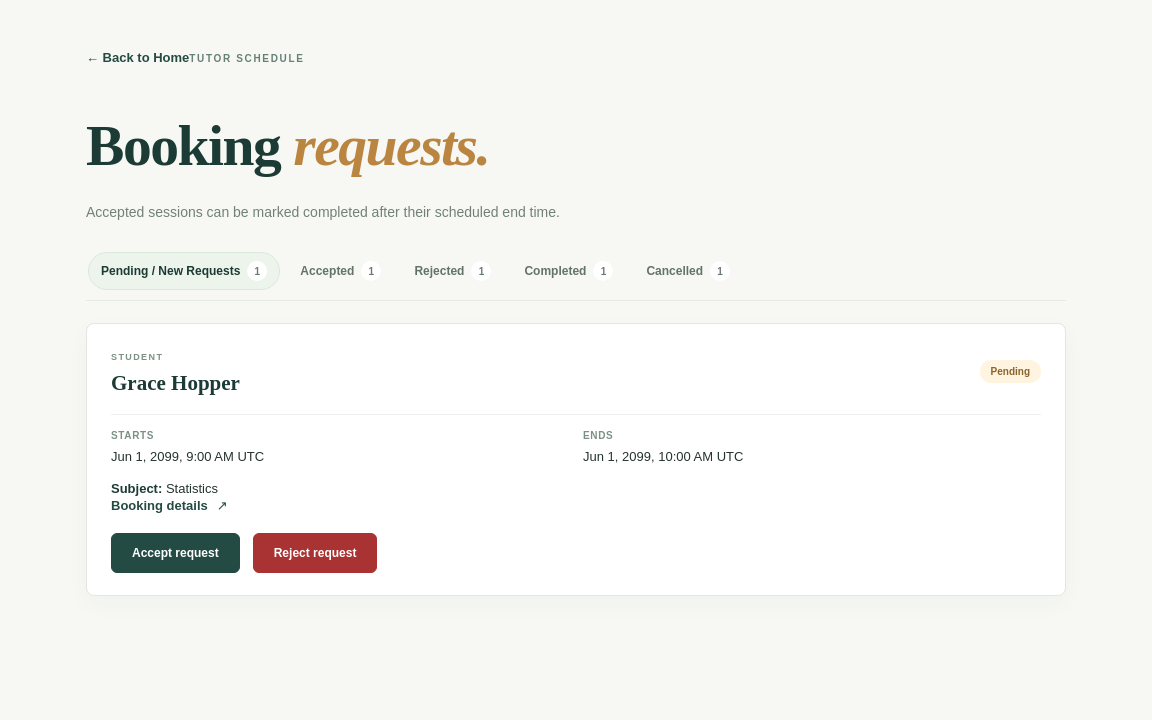
Scenario: tutor booking requests page › filters real booking records into separate status categories
expect the heading "Grace Hopper" is shown: met, box top-left (111, 371), bottom-right (240, 396)
expect the text "Statistics" is shown once: met, box top-left (111, 481), bottom-right (218, 496)
Click the tab "Accepted 1" at x=341, y=271, box top-left (287, 252), bottom-right (394, 290)
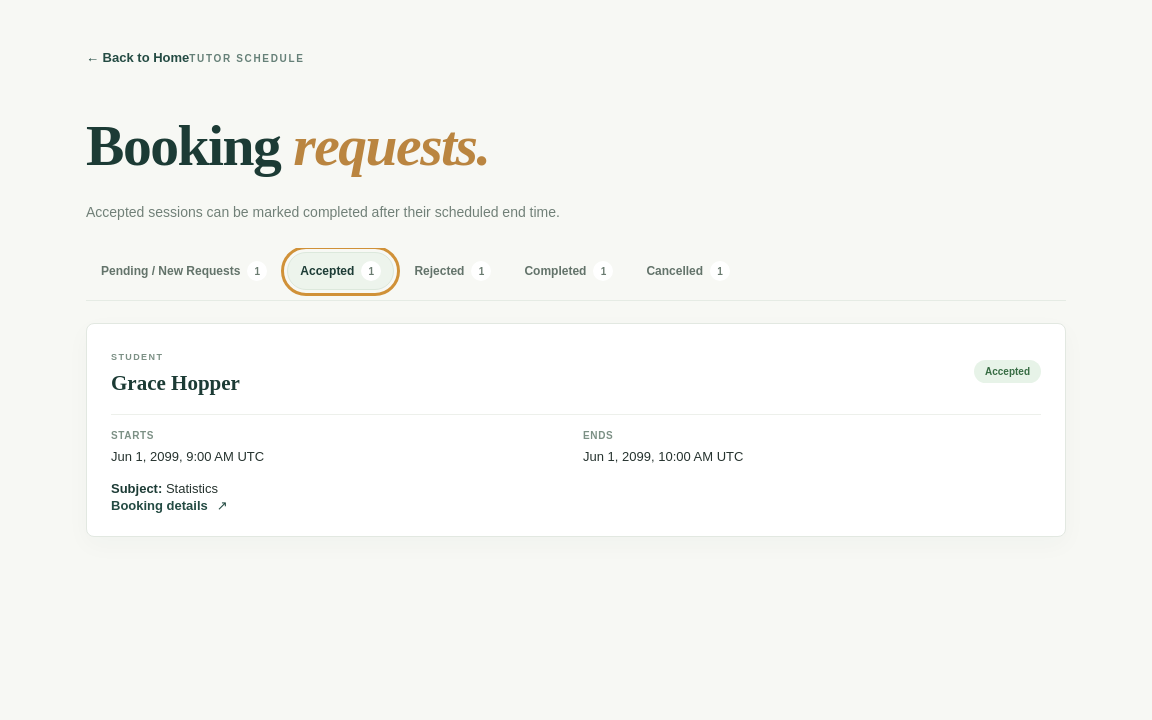
expect the text "Accepted" is shown: met, box top-left (974, 360), bottom-right (1041, 383)
expect the button "Accept request" is gone: met
expect the button "Reject request" is gone: met
Click the tab "Rejected 1" at x=453, y=271, box top-left (401, 252), bottom-right (504, 290)
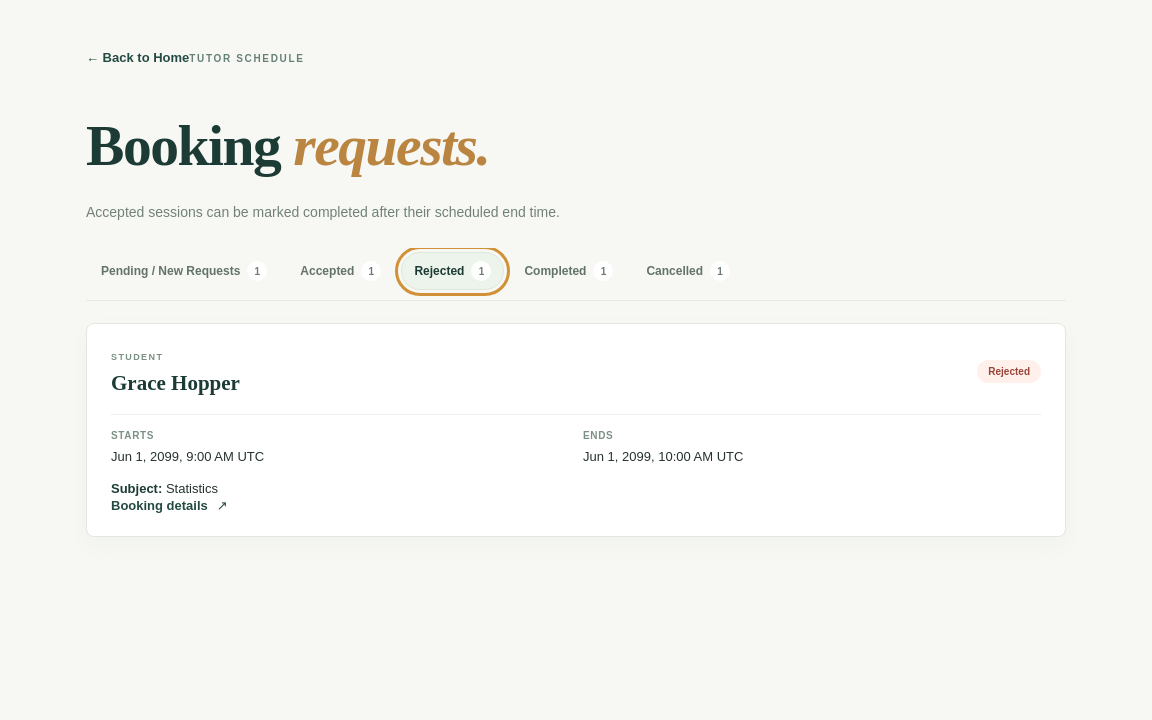
expect the button "Accept request" is not shown: met
expect the text "Rejected" is shown: met, box top-left (977, 360), bottom-right (1041, 383)
Click the tab "Completed 1" at x=569, y=271, box top-left (511, 252), bottom-right (626, 290)
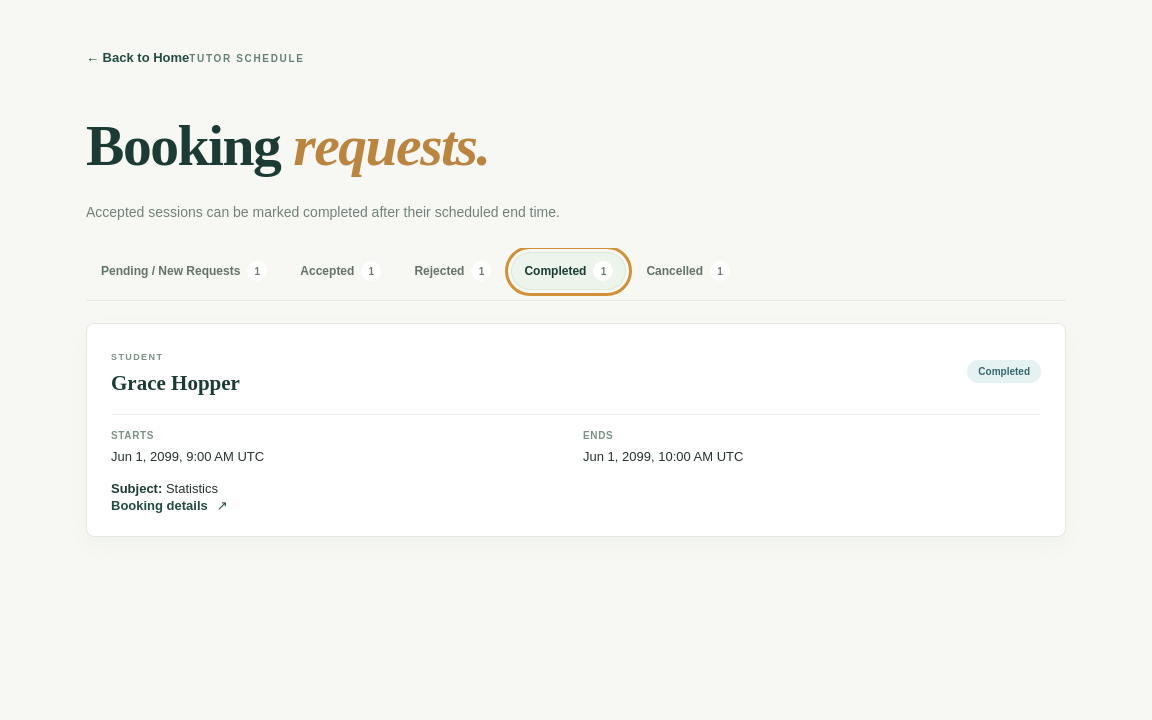
expect the button "Accept request" is not shown: met
expect the text "Completed" is shown: met, box top-left (967, 360), bottom-right (1041, 383)
Click the tab "Cancelled 1" at x=688, y=271, box top-left (633, 252), bottom-right (743, 290)
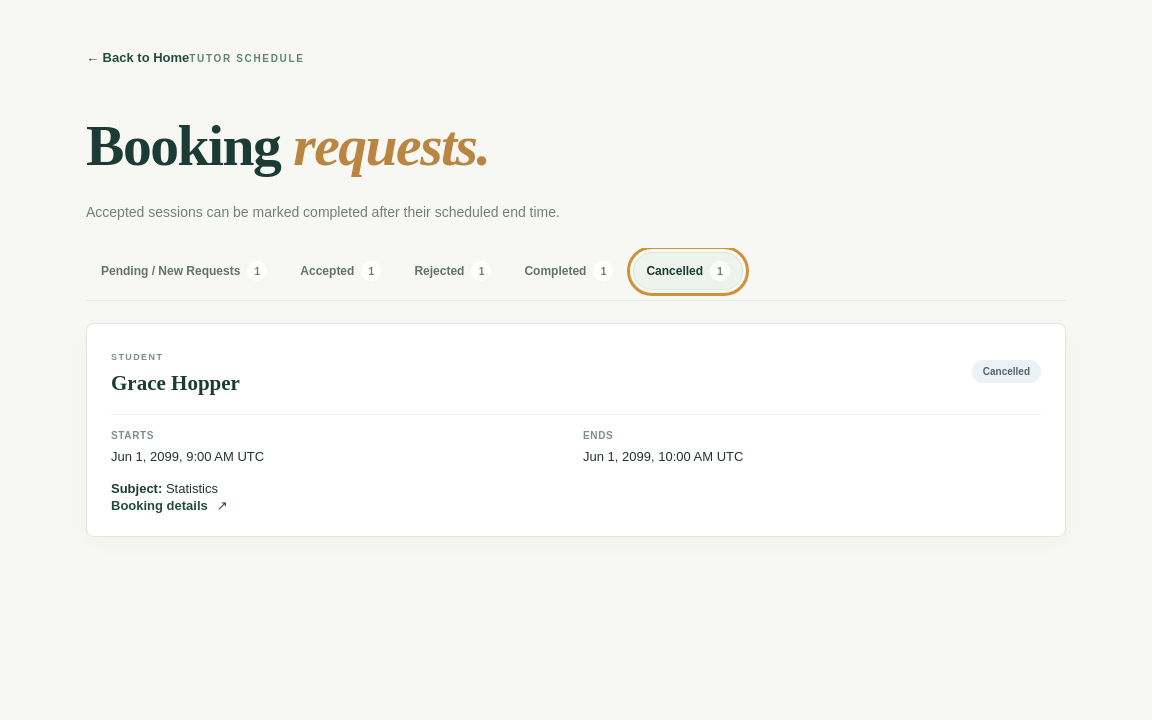
expect the button "Accept request" is not shown: met
expect the text "Cancelled" is shown: met, box top-left (972, 360), bottom-right (1041, 383)
